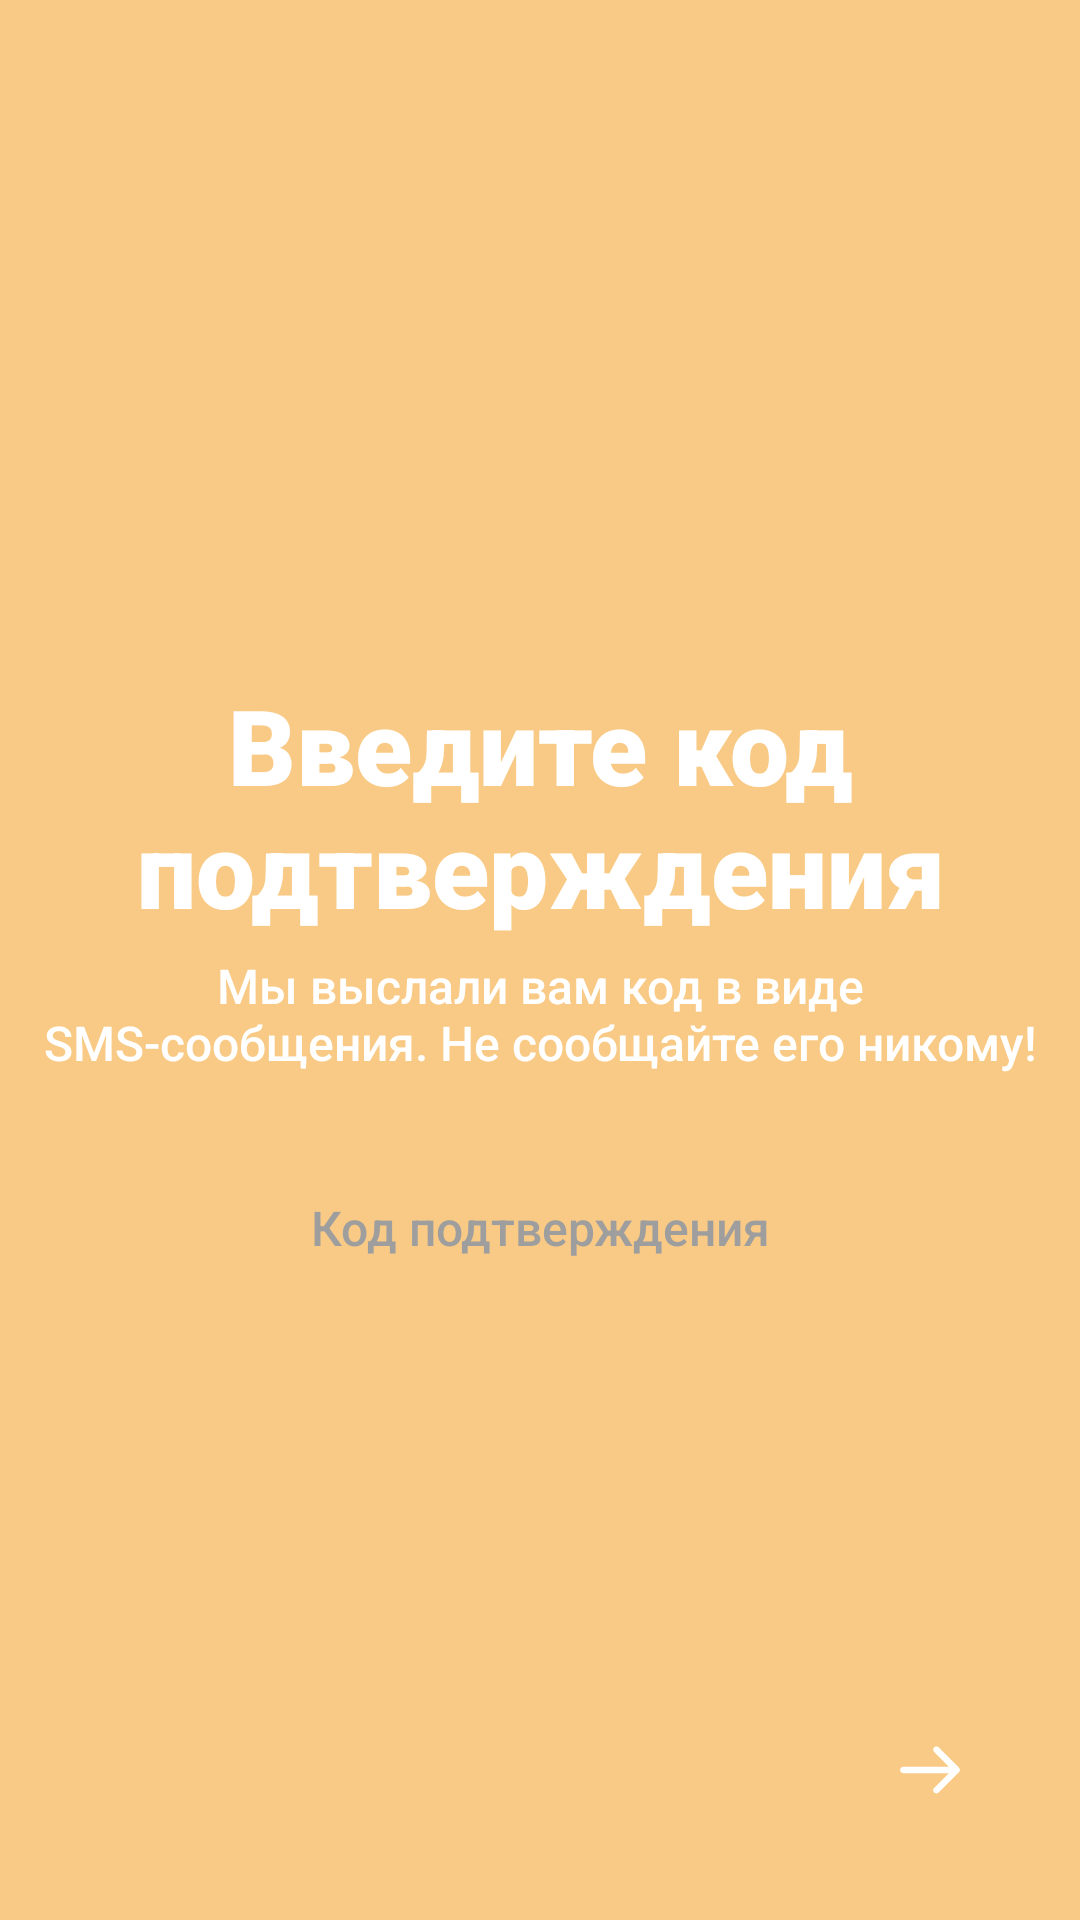

Icon click points for this 1080 × 1920 phone screenshot, format [x,y]:
arrow forward: [930,1770]
